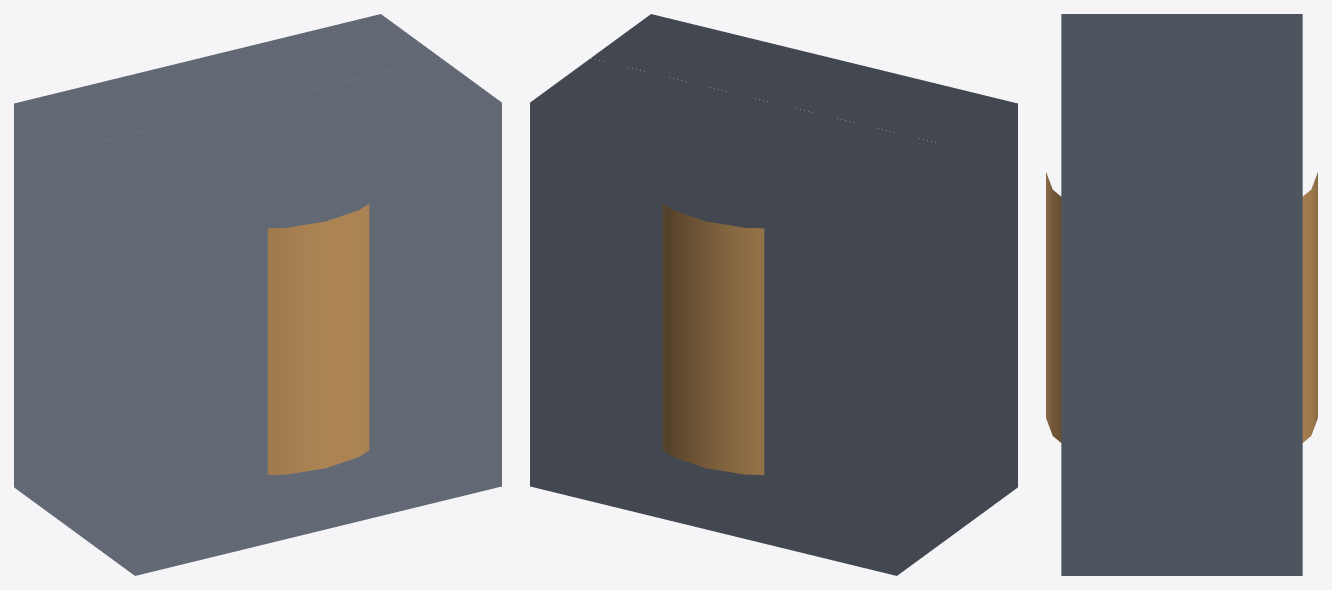
The model's file is transformer.glb.
3 renders of one model, left to right at view 1: azimuth 30°, elevation 25°; view 2: azimuth 150°, elevation 25°; view 3: azimuth 270°, elevation 25°, orthographic.
Parts seen in each view (by area): view 1: EICoreStack, PrimaryCopperWinding; view 2: EICoreStack, PrimaryCopperWinding; view 3: EICoreStack, PrimaryCopperWinding.
Part boxes in pixels (bbox=[...]): EICoreStack: bbox=[14, 14, 501, 575]; PrimaryCopperWinding: bbox=[267, 204, 369, 474]; EICoreStack: bbox=[530, 14, 1017, 575]; PrimaryCopperWinding: bbox=[662, 204, 764, 474]; EICoreStack: bbox=[1061, 14, 1302, 575]; PrimaryCopperWinding: bbox=[1046, 172, 1317, 442].
Size of the model in its own units: 1.4 by 1.4 by 0.9.
